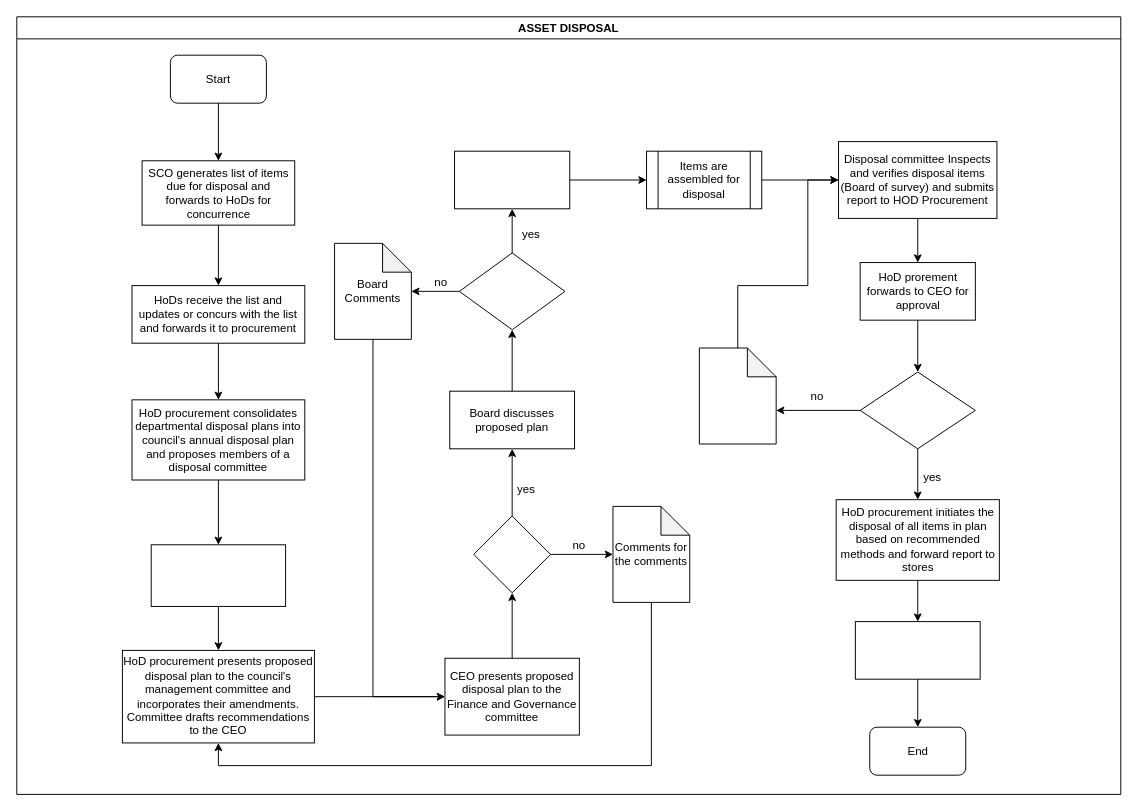
Some shapes in this 1138 by 811 pixel diagram are drawn without their labels. The box of each missing label's shape, as (x1, y1, x2, y2) in pixels:
Board chair and CEO approves the disposal plan: (454, 150, 570, 209)
Board concurs?: (458, 252, 565, 330)
CEO appoints members of the disposal committee: (150, 544, 286, 606)
CEO Approves?: (859, 371, 975, 449)
CEO Comments: (698, 347, 776, 444)
F&G concurs?: (473, 515, 551, 593)
Stores in charge expunges disposed item from the asset register: (854, 621, 980, 679)
